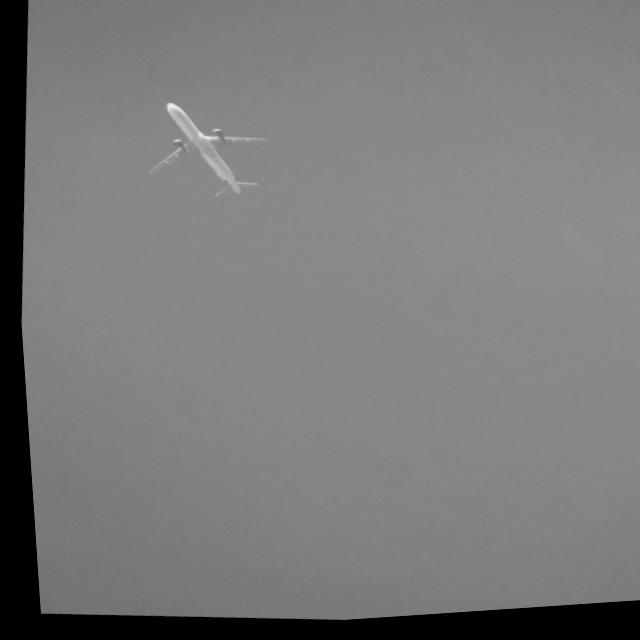aeroplane: (137, 97, 277, 214)
